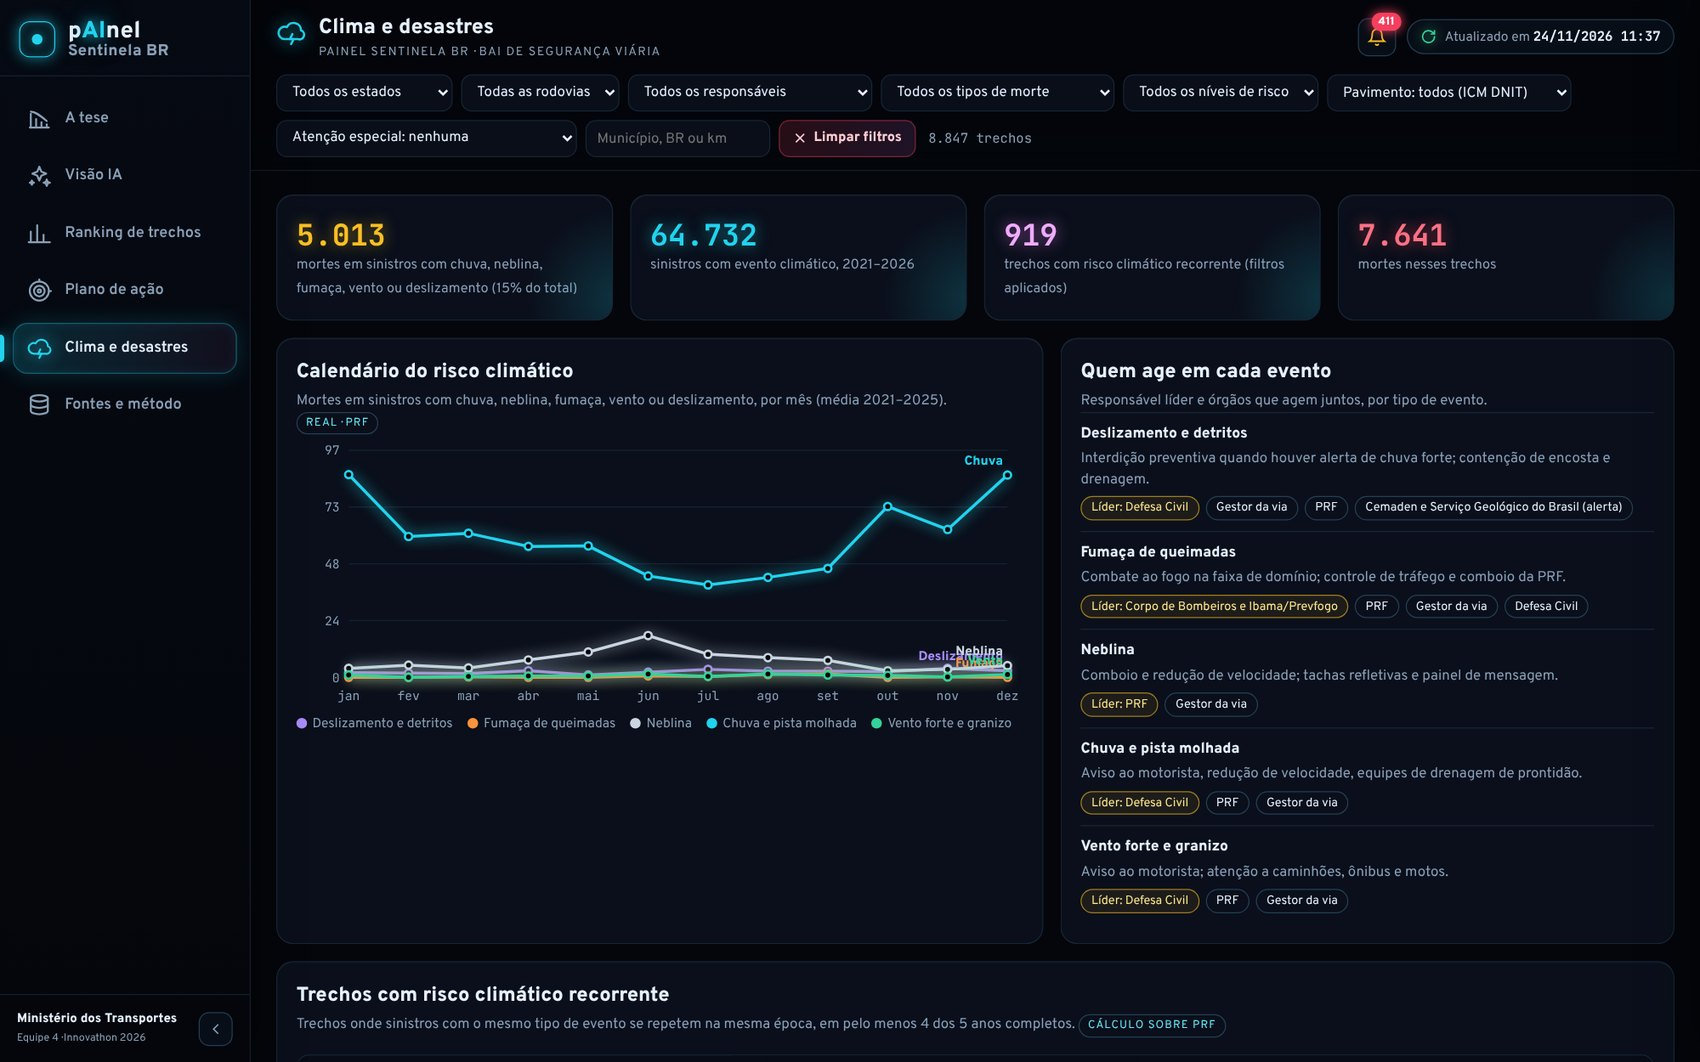

This screenshot's page, from the dashboard's own definition file:
{"tool":"powerbi","page":{"name":"Clima e pavimento","canvas":[1280,720],"ordinal":3},"visuals":[{"type":"textbox","box":[16,8,900,52],"z":0},{"type":"card","fields":{"Values":["Medidas.Atualizado em"]},"box":[940,10,324,56],"z":1000},{"type":"slicer","title":"Estado","fields":{"Values":["dim_trecho.uf"]},"box":[16,70,240,56],"z":2000},{"type":"slicer","title":"Rodovia","fields":{"Values":["dim_trecho.rodovia"]},"box":[268,70,240,56],"z":3000},{"type":"slicer","title":"Responsável","fields":{"Values":["dim_trecho.responsavel"]},"box":[520,70,240,56],"z":4000},{"type":"slicer","title":"Nível de risco","fields":{"Values":["dim_trecho.nivel_risco"]},"box":[772,70,240,56],"z":5000},{"type":"slicer","title":"Concessionária","fields":{"Values":["dim_trecho.concessionaria"]},"box":[1024,70,240,56],"z":6000},{"type":"clusteredBarChart","title":"Mortes em trechos com risco climático recorrente (PRF)","fields":{"Category":["dim_trecho.clima_evento"],"Y":["Medidas.Mortes"]},"box":[16,136,410,270],"z":7000},{"type":"clusteredBarChart","title":"Mortes por risco de inundação do município em 2050 (AdaptaBrasil)","fields":{"Category":["dim_trecho.inundacao_2050_classe"],"Y":["Medidas.Mortes"]},"box":[436,136,410,270],"z":8000},{"type":"clusteredBarChart","title":"Mortes por condição do pavimento (ICM DNIT)","fields":{"Category":["dim_trecho.icm_classe"],"Y":["Medidas.Mortes"]},"box":[856,136,408,270],"z":9000},{"type":"tableEx","title":"Trechos com evento climático (PRF), desastre (Defesa Civil) e risco 2050","fields":{"Values":["dim_trecho.rodovia","dim_trecho.uf","dim_trecho.km_inicio","dim_trecho.municipio","dim_trecho.clima_evento","dim_trecho.clima_janela","dim_trecho.desastre_recorrente","dim_trecho.anos_com_desastre_2016_2025","dim_trecho.inundacao_2050_classe","dim_trecho.mortes_2021_out2026","dim_trecho.responsavel"]},"box":[16,418,1248,292],"z":10000}]}

Visuals, with their boxes on the page's 1280x720 design canvas (x1, y1, x2, y2). These are canvas units, not pixel positions in the 1700x1062 screenshot, which may show the page scaled, cropped or inside an application window:
textbox: <region>16, 8, 916, 60</region>
card - Medidas.Atualizado em: <region>940, 10, 1264, 66</region>
"Estado" slicer: <region>16, 70, 256, 126</region>
"Rodovia" slicer: <region>268, 70, 508, 126</region>
"Responsável" slicer: <region>520, 70, 760, 126</region>
"Nível de risco" slicer: <region>772, 70, 1012, 126</region>
"Concessionária" slicer: <region>1024, 70, 1264, 126</region>
"Mortes em trechos com risco climático recorrente (PRF)" clusteredBarChart: <region>16, 136, 426, 406</region>
"Mortes por risco de inundação do município em 2050 (AdaptaBrasil)" clusteredBarChart: <region>436, 136, 846, 406</region>
"Mortes por condição do pavimento (ICM DNIT)" clusteredBarChart: <region>856, 136, 1264, 406</region>
"Trechos com evento climático (PRF), desastre (Defesa Civil) e risco 2050" tableEx: <region>16, 418, 1264, 710</region>
